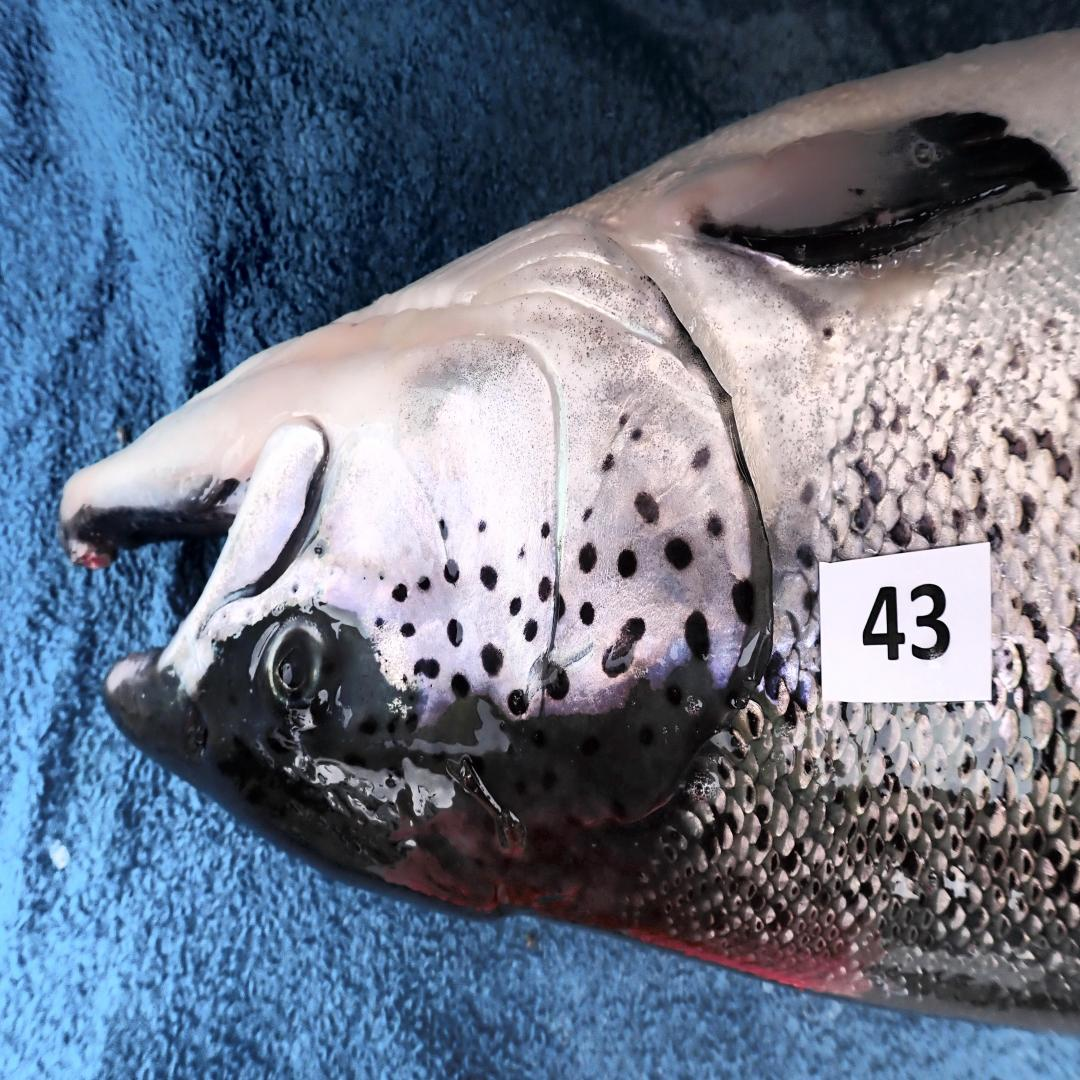spot: (603, 619, 645, 678), (534, 655, 570, 700), (686, 610, 711, 661), (732, 579, 755, 624), (664, 537, 692, 571), (635, 492, 660, 523), (481, 644, 504, 675), (618, 548, 637, 579), (578, 543, 597, 574), (508, 689, 529, 717), (413, 658, 439, 678), (692, 444, 711, 470), (451, 672, 470, 698), (447, 619, 464, 647), (481, 565, 498, 591), (707, 512, 724, 537), (443, 560, 460, 585), (538, 577, 553, 602), (580, 602, 595, 624), (523, 619, 538, 641), (508, 596, 523, 616), (392, 582, 407, 602), (555, 593, 565, 622), (601, 453, 614, 472), (314, 540, 327, 559), (401, 622, 416, 638), (618, 411, 629, 430), (582, 506, 593, 523), (540, 520, 551, 537), (631, 428, 643, 442), (418, 577, 430, 591), (439, 520, 447, 540), (479, 520, 487, 532), (375, 617, 384, 627), (518, 548, 525, 558), (292, 582, 298, 593), (379, 572, 384, 580)
